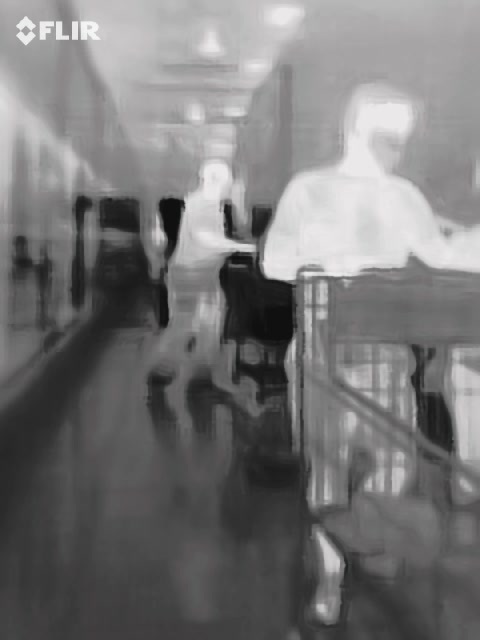head: (342, 80, 418, 176)
